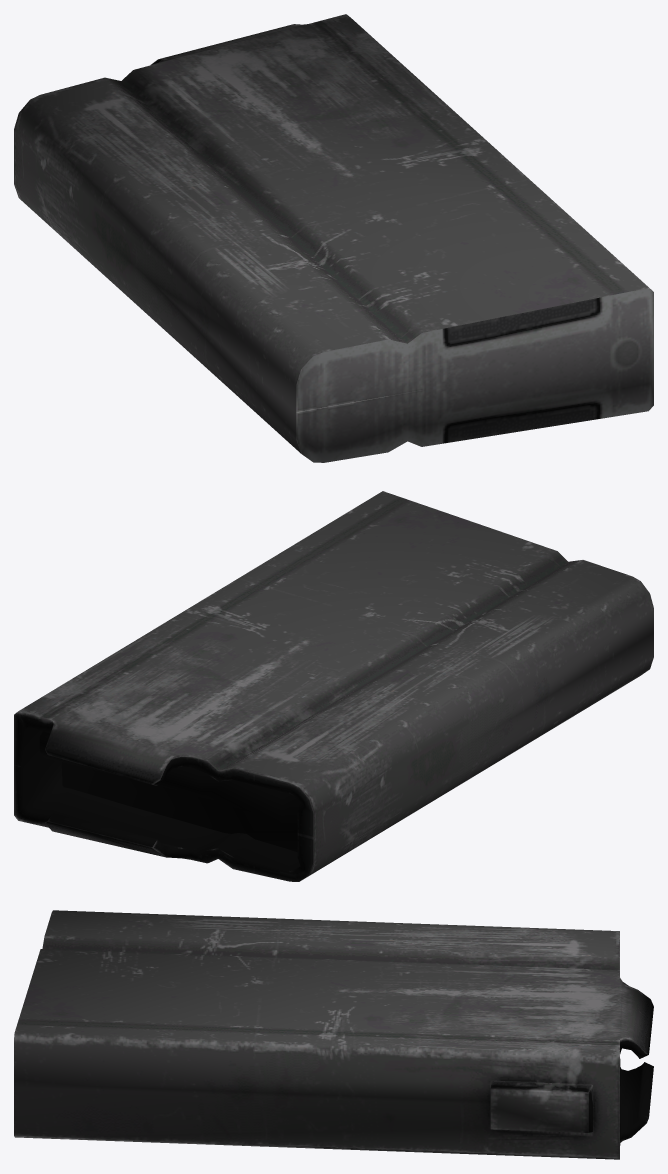
File: MagM14.fbx
3 renders of one model, top to bottom at view 1: azimuth 30°, elevation 25°; view 2: azimuth 150°, elevation 25°; view 3: azimuth 270°, elevation 25°, orthographic. The views are drawn at different scales.
Parts seen in each view (by area): view 1: MagM14; view 2: MagM14; view 3: MagM14.
Boxes of the visible parts, <box> form: MagM14: <box>14,14,653,462</box>; MagM14: <box>14,491,653,881</box>; MagM14: <box>14,910,653,1159</box>.
Size of the model in its own units: 0.048 by 0.0143 by 0.0791.
